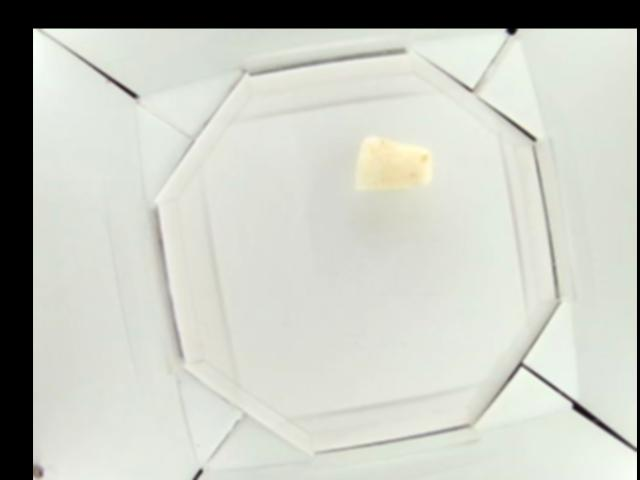Mooli: (354, 134, 435, 188)
